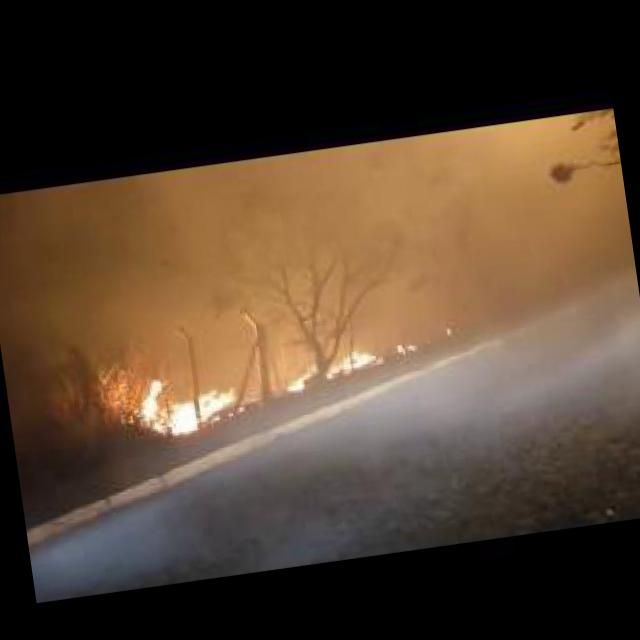fire: (135, 365, 249, 440), (323, 346, 382, 379), (283, 362, 318, 389), (392, 340, 418, 356)
